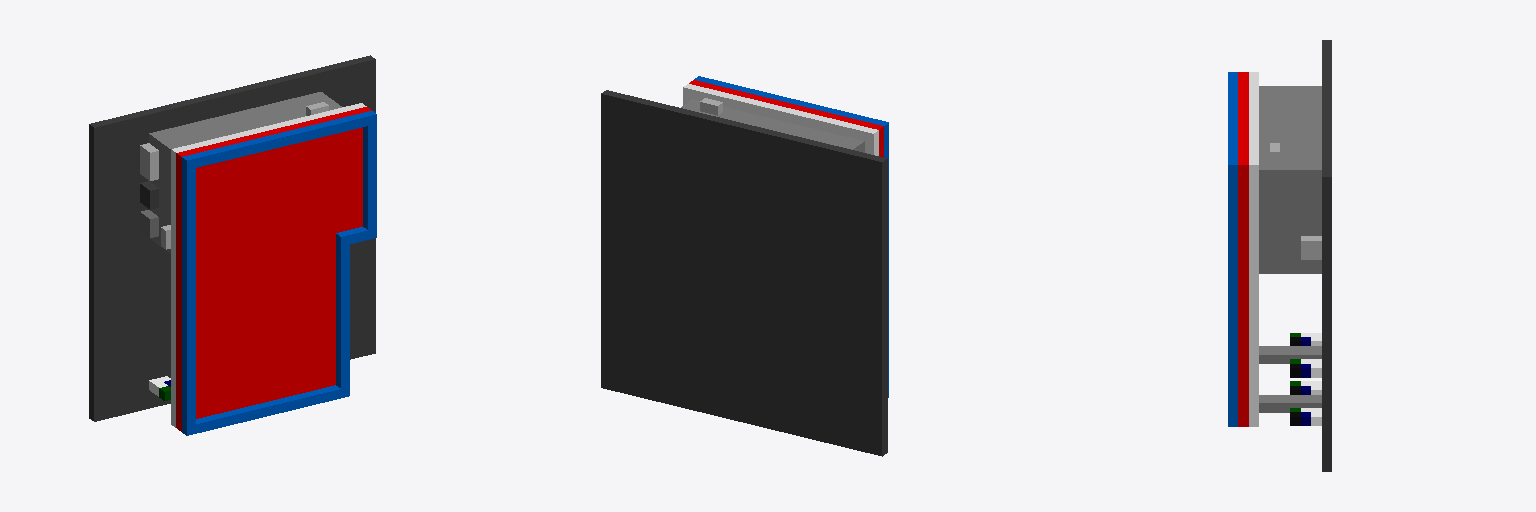
The picture shows the model from 3 angles: view 1: azimuth 30°, elevation 25°; view 2: azimuth 150°, elevation 25°; view 3: azimuth 270°, elevation 25°; orthographic projection.
Parts seen in each view (by area): view 1: petrol_station; view 2: petrol_station; view 3: petrol_station.
Part boxes in pixels (bbox=[...]): petrol_station: bbox=[89, 55, 376, 435]; petrol_station: bbox=[601, 76, 888, 456]; petrol_station: bbox=[1228, 40, 1331, 471].
Bounding box in the file's own units: 31 × 31 × 10.
1 materials, 1 textured.